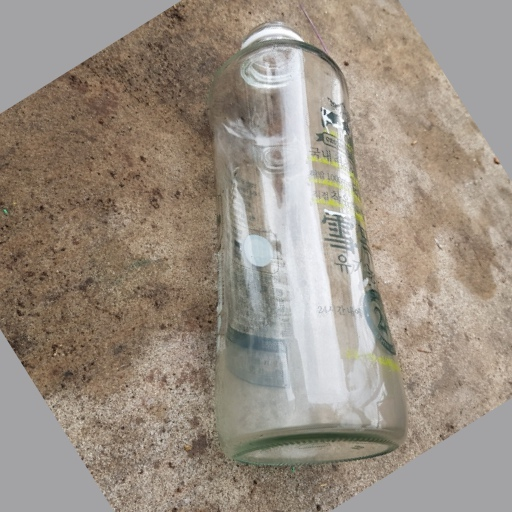Glass_4: (203, 20, 406, 471)
